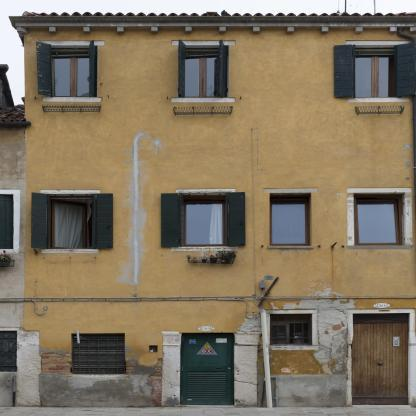Blind: (161, 193, 185, 247), (333, 45, 356, 98), (92, 193, 114, 248), (394, 43, 416, 96), (225, 192, 246, 246), (36, 41, 55, 97), (31, 192, 49, 248), (88, 39, 97, 97), (219, 40, 228, 97), (178, 40, 186, 97)
Building Outline: (8, 11, 416, 407)
Cornice: (345, 40, 411, 46), (347, 188, 412, 194), (40, 40, 105, 46), (171, 40, 236, 46), (40, 189, 102, 195), (176, 189, 238, 194), (262, 188, 319, 193)
Door: (353, 314, 409, 405), (180, 333, 234, 405)
Facade: (25, 23, 415, 407)
Floor: (25, 144, 416, 280)
Floor Slab: (25, 138, 416, 144), (25, 274, 416, 280)
Ground Floor: (25, 280, 416, 407)
Molding: (15, 26, 416, 34)
Sill: (170, 97, 236, 103), (345, 97, 410, 103), (41, 97, 103, 103), (169, 247, 240, 252), (346, 245, 414, 250), (41, 249, 100, 254), (267, 245, 314, 250)
Top Floor: (25, 23, 416, 144)
Window: (353, 193, 407, 245), (46, 194, 95, 249), (180, 193, 229, 246), (353, 45, 402, 98), (179, 45, 228, 97), (48, 46, 97, 97), (71, 334, 126, 374), (270, 193, 311, 246), (270, 314, 313, 346)
